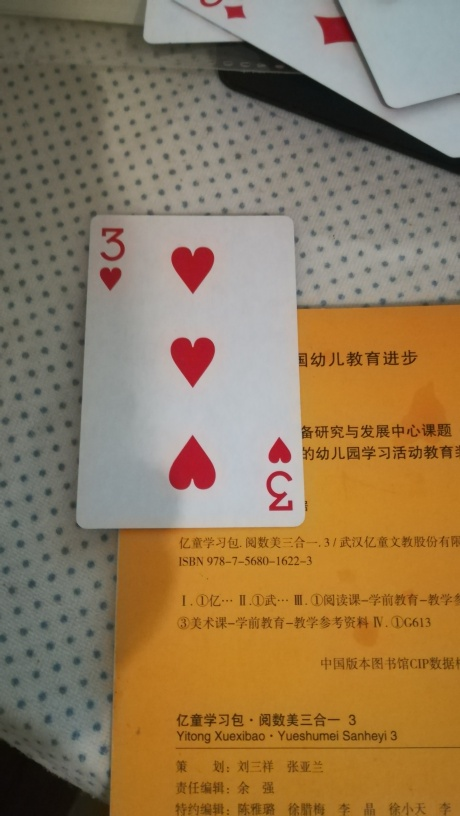hx 3: (75, 204, 309, 530)
